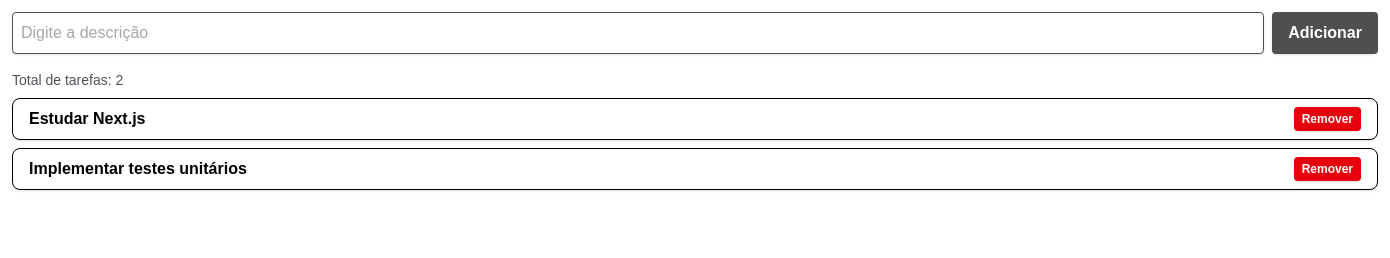
it: <NovaTarefa /> › adiciona nova tarefa ao submeter
Step 1. Type "Nova tarefa teste" into the field with placeholder "Digite a descrição" → (638, 33), box 12,12 -> 1264,54
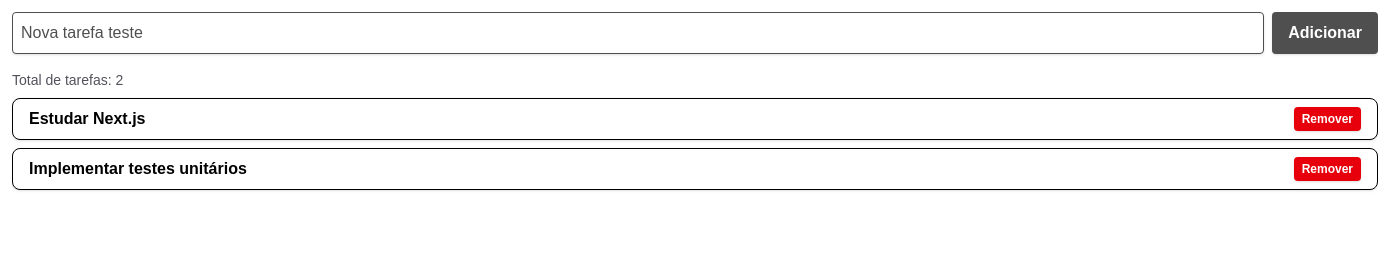
Step 2. Click the button "Adicionar" → click(1325, 33), box 1272,12 -> 1378,54
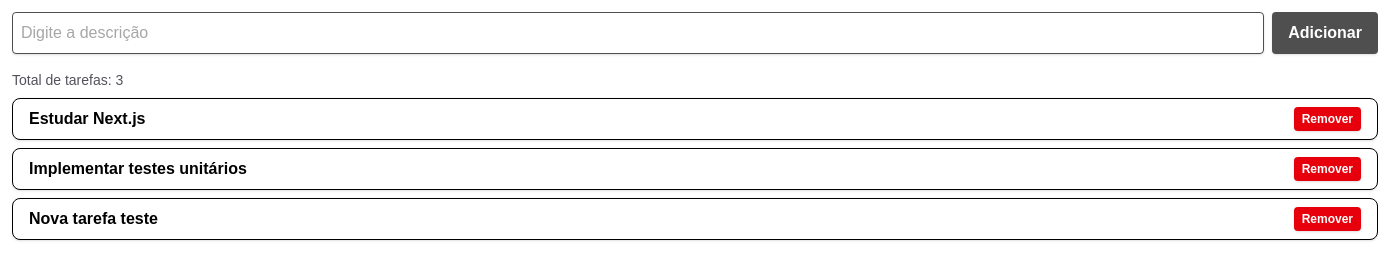
expect the text "Nova tarefa teste" is shown: met, box 29,207 -> 158,231
